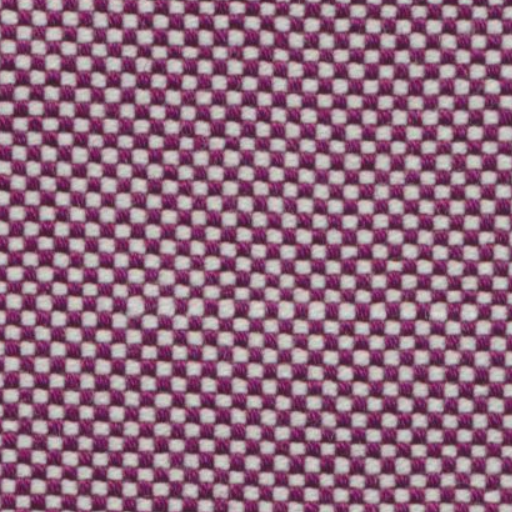TuoSha: (18, 274, 504, 358)
